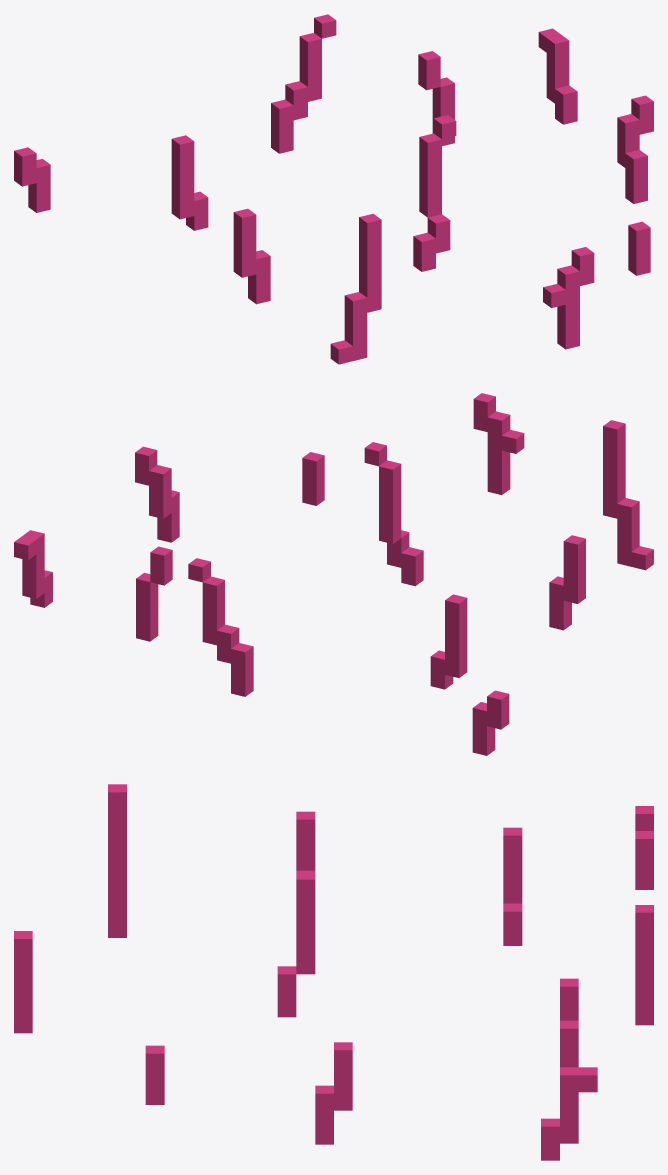
The model's file is UNITYGRASS.obj.
The picture shows the model from 3 angles, top to bottom: view 1: azimuth 30°, elevation 25°; view 2: azimuth 150°, elevation 25°; view 3: azimuth 270°, elevation 25°; orthographic projection. The views are drawn at different scales.
Size of the model in its own units: 3.6 by 0.9 by 3.4.
